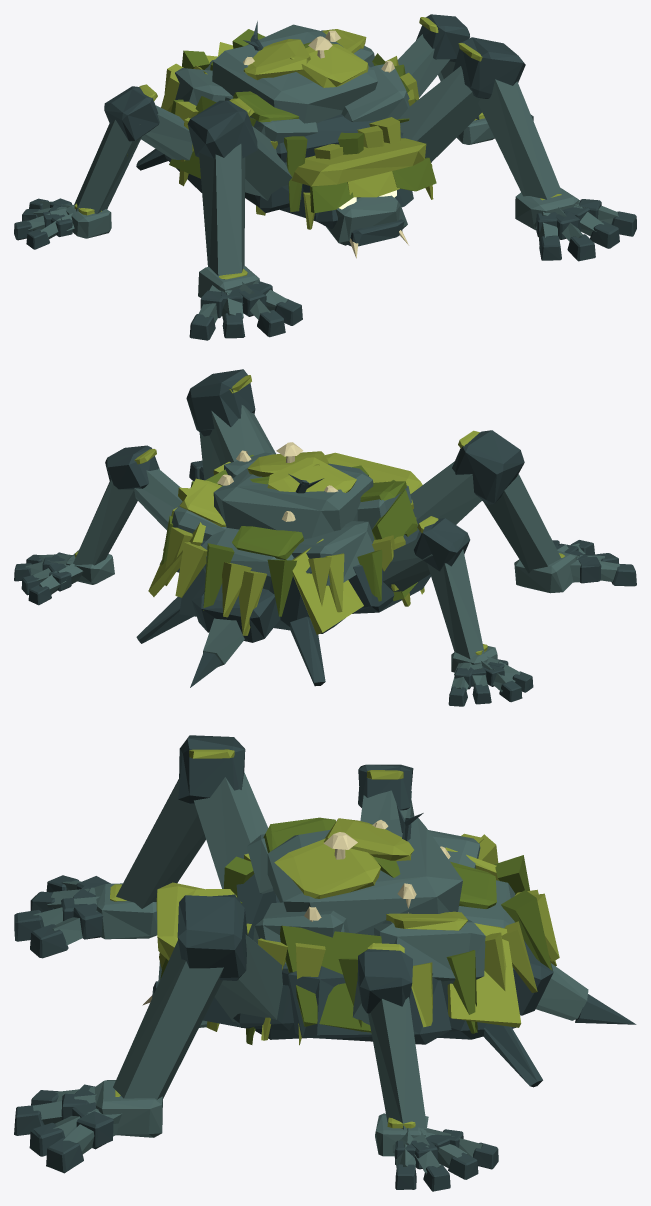
Rendered from mire_static.fbx.
3 views of the same model, one above another, from view 1: azimuth 30°, elevation 25°; view 2: azimuth 150°, elevation 25°; view 3: azimuth 270°, elevation 25° (orthographic). The views are drawn at different scales.
Parts seen in each view (by area): view 1: Mire_Static; view 2: Mire_Static; view 3: Mire_Static.
Part boxes in pixels (x1,y1,x2,y2): Mire_Static: [14, 14, 636, 340]; Mire_Static: [14, 369, 636, 706]; Mire_Static: [14, 735, 636, 1191].
Bounding box in the file's own units: 1342 × 427 × 1114.
Materials: 2 (1 with a texture image).
